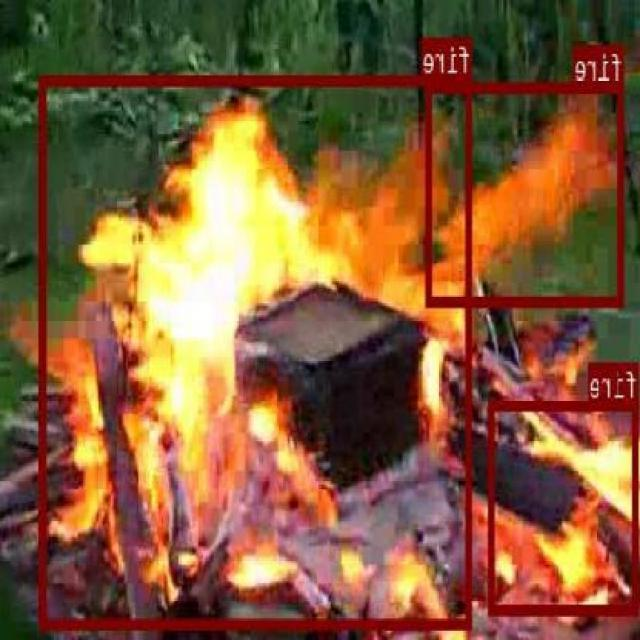Fire: (42, 74, 473, 628), (428, 82, 624, 306), (491, 399, 640, 613)
